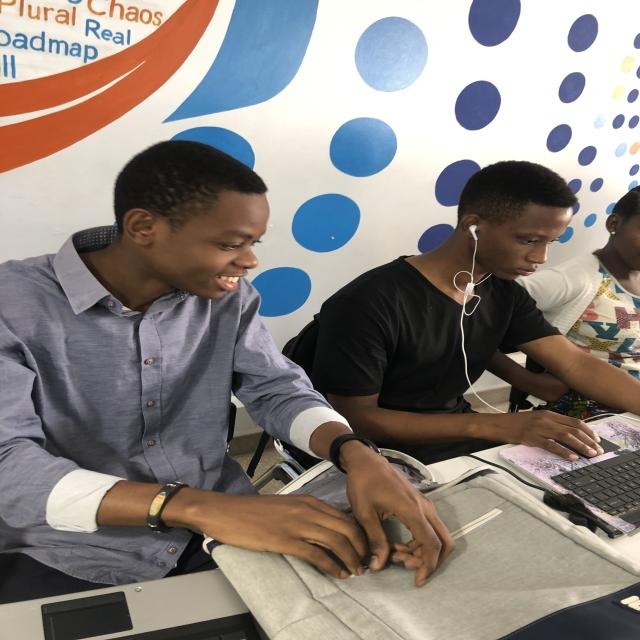no-mask: (186, 196, 270, 297), (502, 209, 578, 278), (619, 218, 640, 270)
